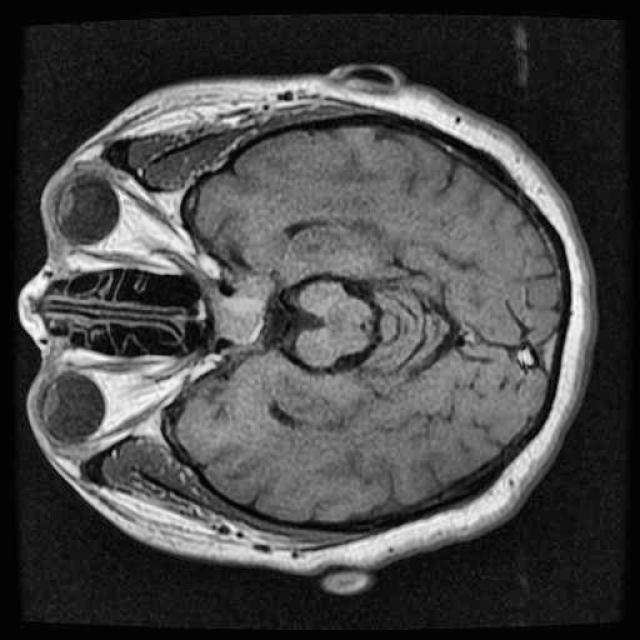Tumor: (198, 260, 281, 351)
